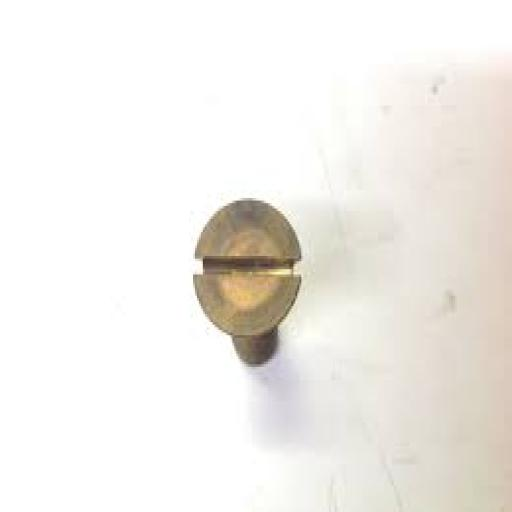Slotted: (193, 194, 300, 343)
